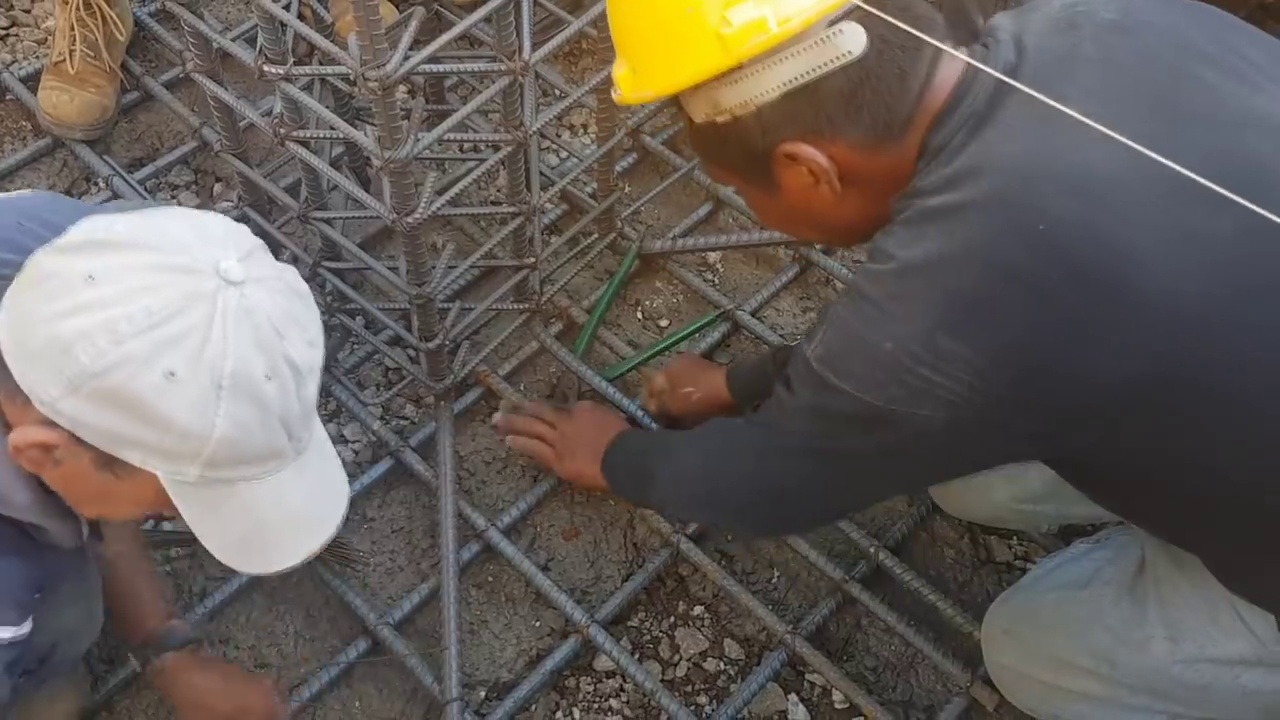helmet: (603, 0, 861, 106)
helmet-off: (1, 203, 351, 577)
helmet-on: (603, 0, 992, 252)
person: (498, 2, 1280, 679), (0, 203, 350, 720)
